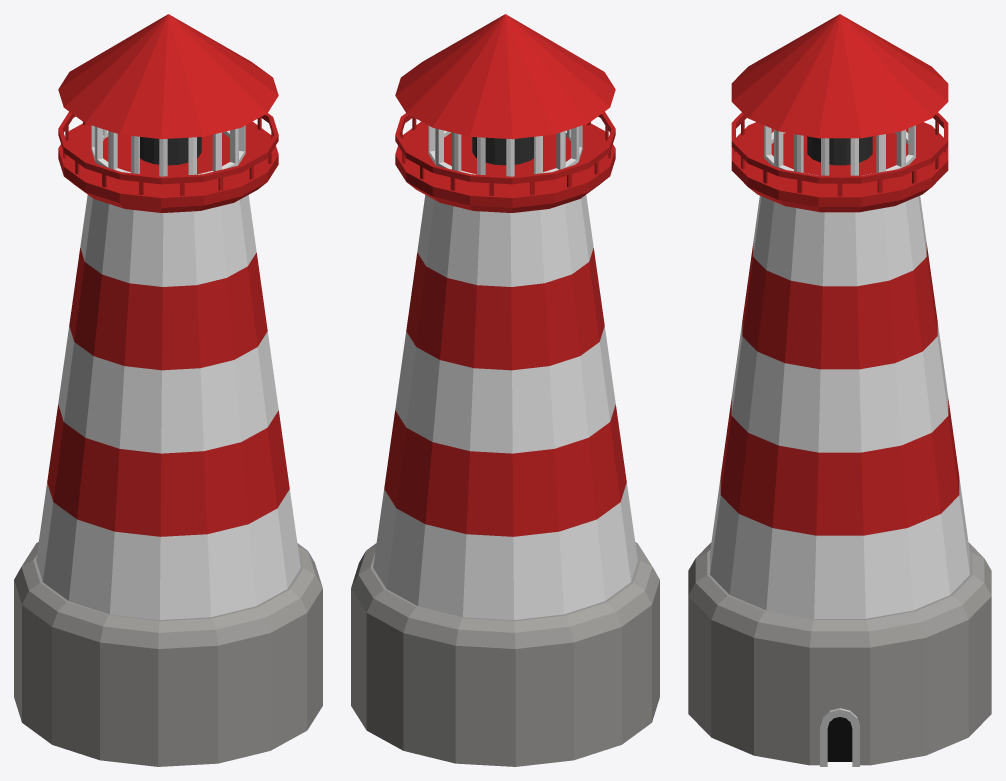
File: Prop_Decorative_Lighthouse.obj
3 renders of one model, left to right at view 1: azimuth 30°, elevation 25°; view 2: azimuth 150°, elevation 25°; view 3: azimuth 270°, elevation 25°, orthographic.
Visible parts, largest first — view 1: Red, White, Base, Light; view 2: Red, White, Base, Light; view 3: Red, White, Base, Light, Entrance, Doorframe.
Part boxes in pixels (<box>): Red: <box>47,14,289,536</box>; White: <box>36,125,300,619</box>; Base: <box>14,542,322,766</box>; Light: <box>140,137,201,165</box>; Red: <box>384,14,626,536</box>; White: <box>373,125,637,619</box>; Base: <box>351,542,659,766</box>; Light: <box>472,137,533,165</box>; Red: <box>720,14,959,535</box>; White: <box>710,125,969,618</box>; Base: <box>688,542,991,765</box>; Light: <box>807,136,872,165</box>; Entrance: <box>827,717,852,761</box>; Doorframe: <box>820,708,859,766</box>.
Size of the model in its own units: 4.05 by 10 by 4.
